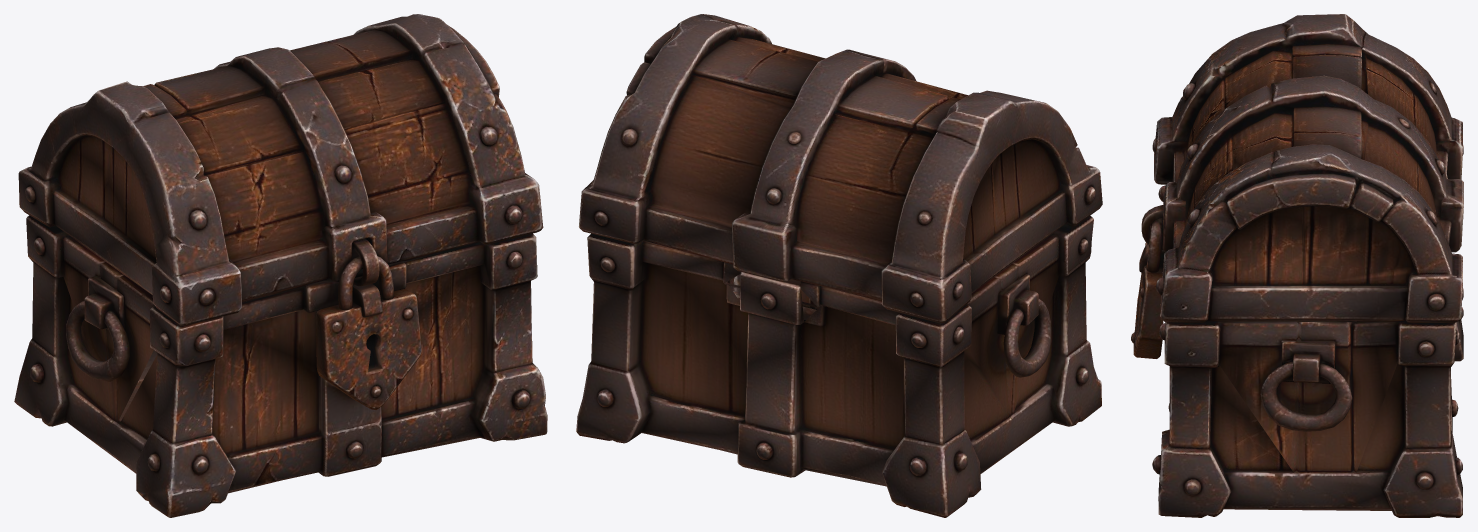
The model's file is prop_chest.glb.
3 views of the same model, side by side, from view 1: azimuth 30°, elevation 25°; view 2: azimuth 150°, elevation 25°; view 3: azimuth 270°, elevation 25° (orthographic). The views are drawn at different scales.
Parts seen in each view (by area): view 1: tripo_node_5657cd6e-7b4c-41c8-aed4-560c9d303c13; view 2: tripo_node_5657cd6e-7b4c-41c8-aed4-560c9d303c13; view 3: tripo_node_5657cd6e-7b4c-41c8-aed4-560c9d303c13.
Boxes of the visible parts, box(x1,y1,x2,y2) form: tripo_node_5657cd6e-7b4c-41c8-aed4-560c9d303c13: box(14, 14, 547, 517); tripo_node_5657cd6e-7b4c-41c8-aed4-560c9d303c13: box(576, 14, 1102, 517); tripo_node_5657cd6e-7b4c-41c8-aed4-560c9d303c13: box(1131, 14, 1463, 517).
Bounding box in the file's own units: 0.9995 × 0.8667 × 0.7524.
Materials: 1 (1 with a texture image).
